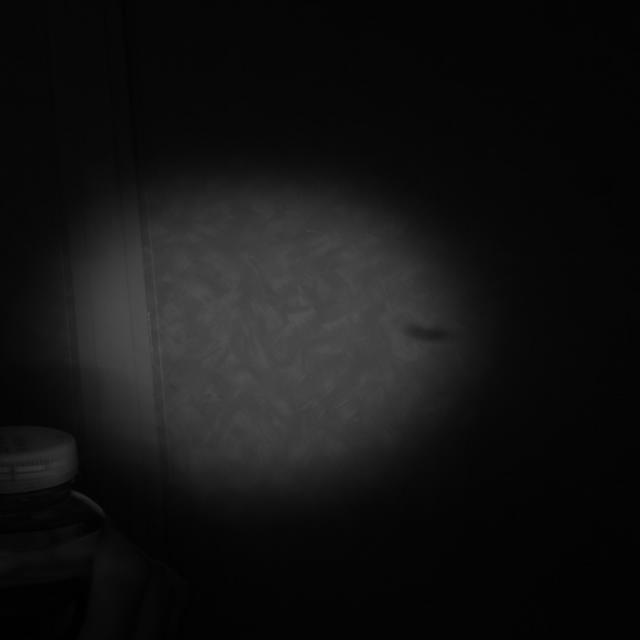Good: (0, 421, 83, 494)
